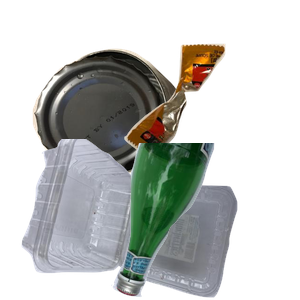glass: (109, 143, 300, 300)
metal: (30, 46, 205, 215)
plastic: (19, 139, 249, 300)
trash: (122, 41, 300, 190)
